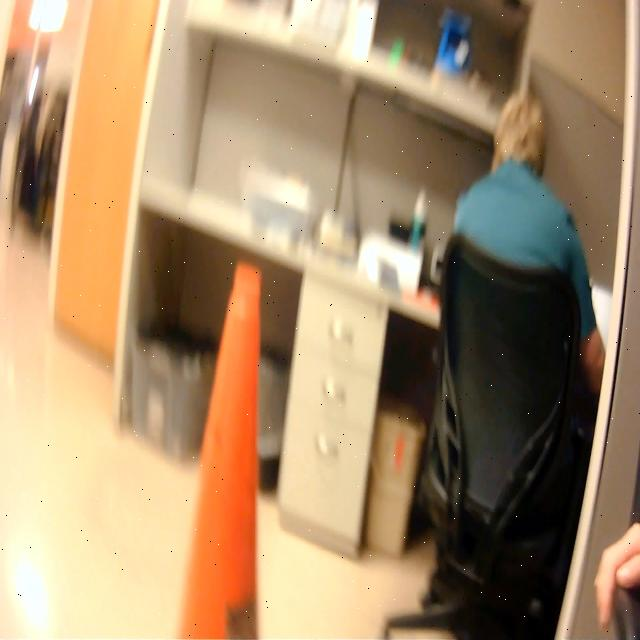traffic cone: (170, 253, 281, 640)
